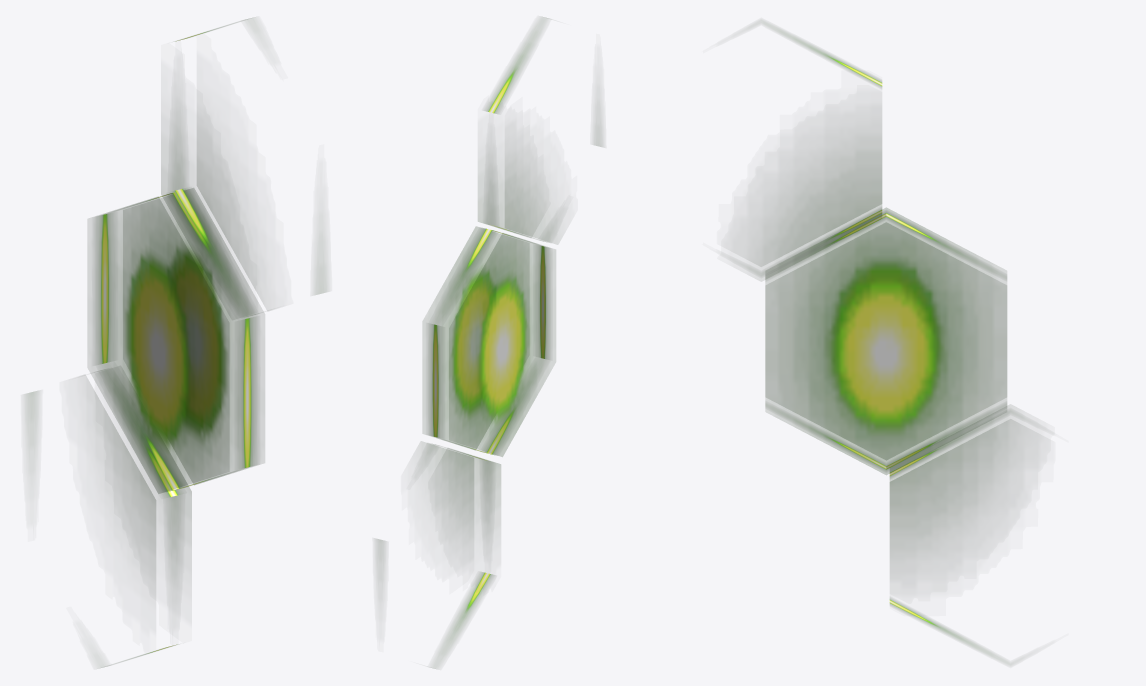
3 views of the same model, side by side, from view 1: azimuth 30°, elevation 25°; view 2: azimuth 150°, elevation 25°; view 3: azimuth 270°, elevation 25° (orthographic). The views are drawn at different scales.
Size of the model in its own units: 0.1085 by 2.2 by 1.52.
Materials: 1 (1 with a texture image).
